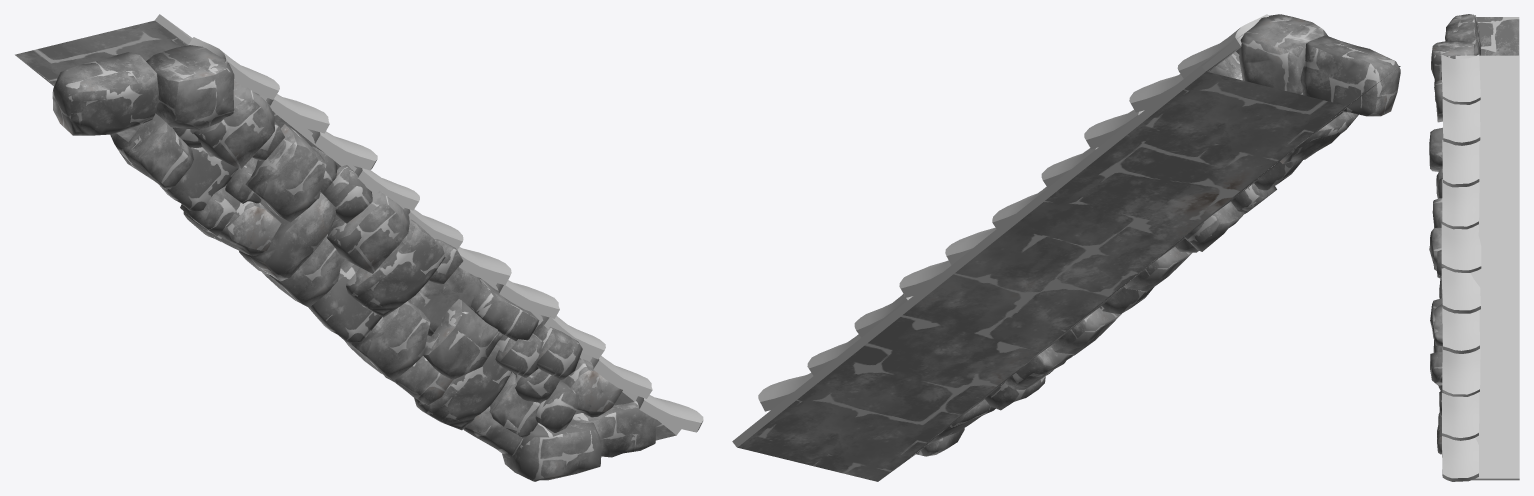
File: Roof_Mid_Left.fbx
3 views of the same model, side by side, from view 1: azimuth 30°, elevation 25°; view 2: azimuth 150°, elevation 25°; view 3: azimuth 270°, elevation 25° (orthographic). The views are drawn at different scales.
Parts seen in each view (by area): view 1: rock_1.036, Roof.003, Wall.019; view 2: Wall.019, rock_1.036, Roof.003; view 3: Roof.003, rock_1.036, Wall.019.
Part boxes in pixels (bbox=[...]): rock_1.036: bbox=[52, 45, 655, 481]; Roof.003: bbox=[155, 14, 703, 435]; Wall.019: bbox=[15, 20, 676, 440]; Wall.019: bbox=[738, 45, 1400, 481]; rock_1.036: bbox=[916, 14, 1400, 456]; Roof.003: bbox=[732, 14, 1268, 447]; Roof.003: bbox=[1441, 54, 1519, 481]; rock_1.036: bbox=[1429, 14, 1481, 454]; Wall.019: bbox=[1476, 17, 1519, 55].
Size of the model in its own units: 6.77 by 5.18 by 1.42.
